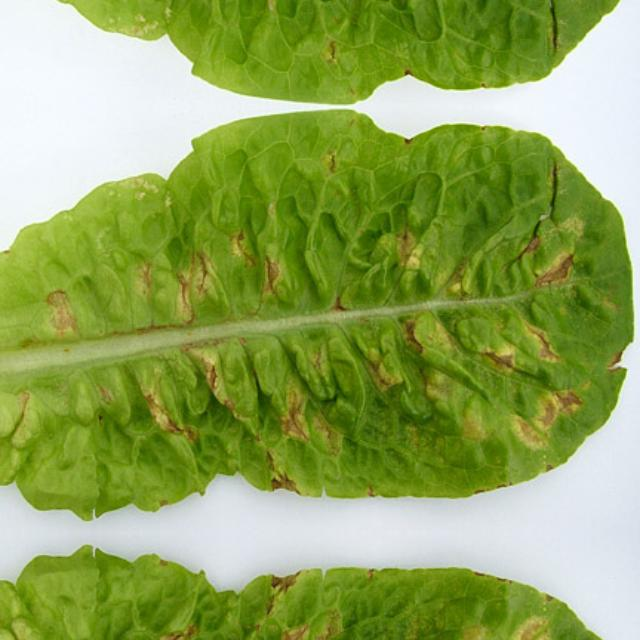Downy_mildew: (26, 120, 640, 503), (26, 0, 639, 91), (26, 561, 639, 640)
